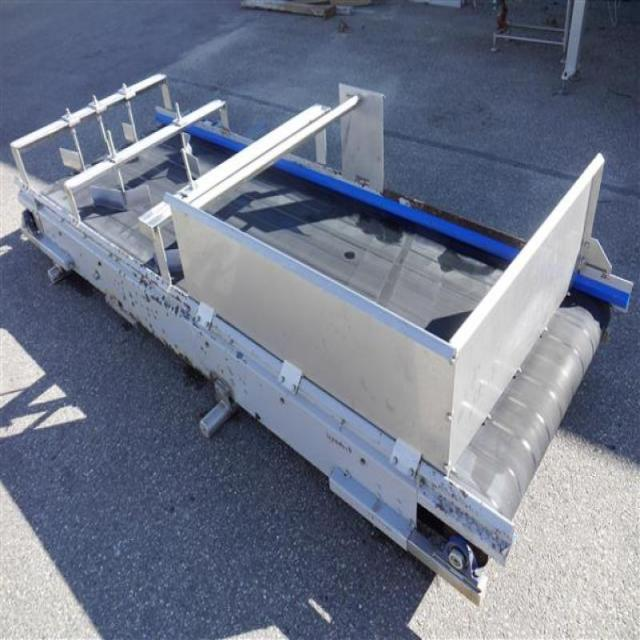Convoyeur: (19, 106, 625, 544)
